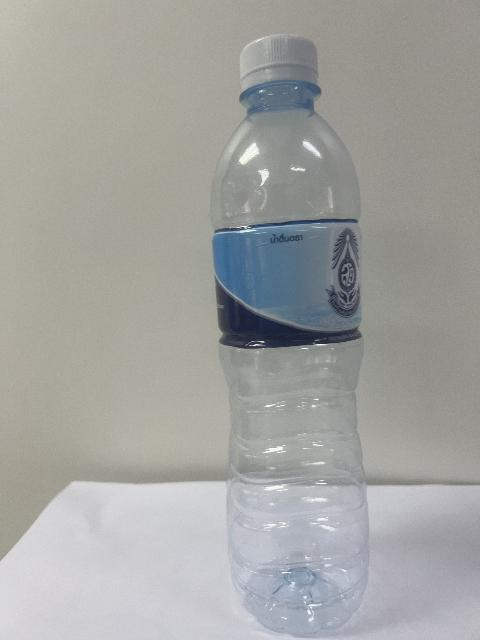bottle: (212, 35, 368, 636)
